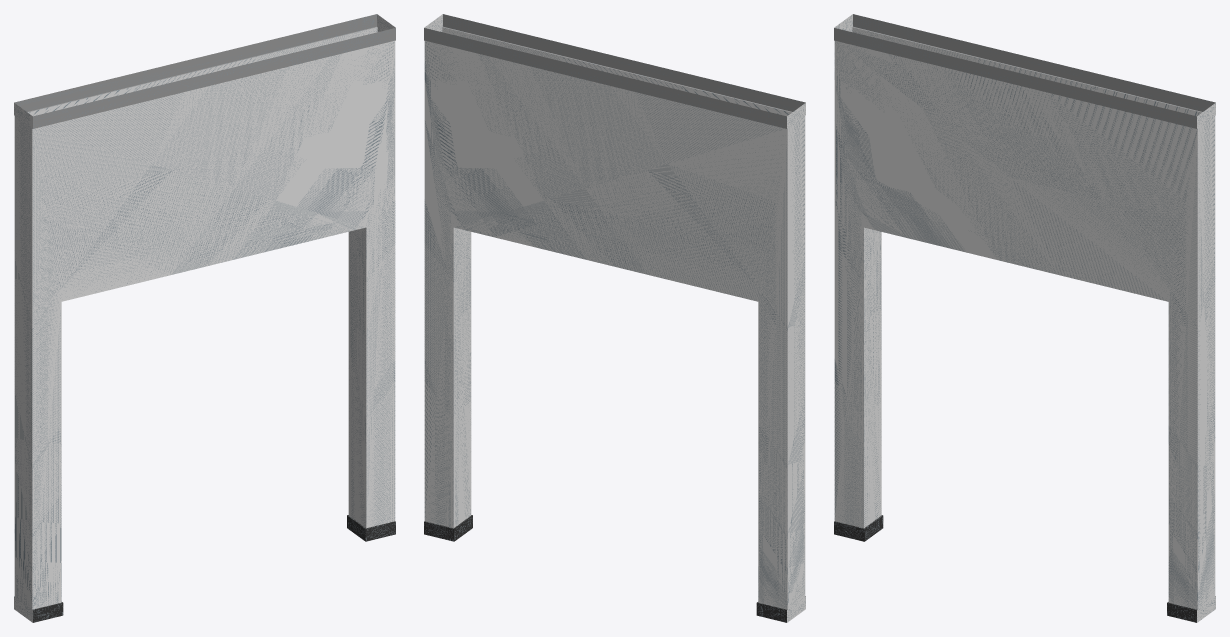
The model's file is BlockWall_ds_plinth_[300x400]_252x247_double_doorway.dae.
3 views of the same model, side by side, from view 1: azimuth 30°, elevation 25°; view 2: azimuth 150°, elevation 25°; view 3: azimuth 330°, elevation 25° (orthographic).
Parts seen in each view (by area): view 1: group_0 (×4); view 2: group_0 (×4); view 3: group_0 (×4).
Boxes of the visible parts, x1,y1,x2,y2 form: group_0 (×4): (14, 14, 395, 622); group_0 (×4): (424, 14, 805, 622); group_0 (×4): (834, 14, 1215, 622).
Size of the model in its own units: 118 by 10.63 by 157.
